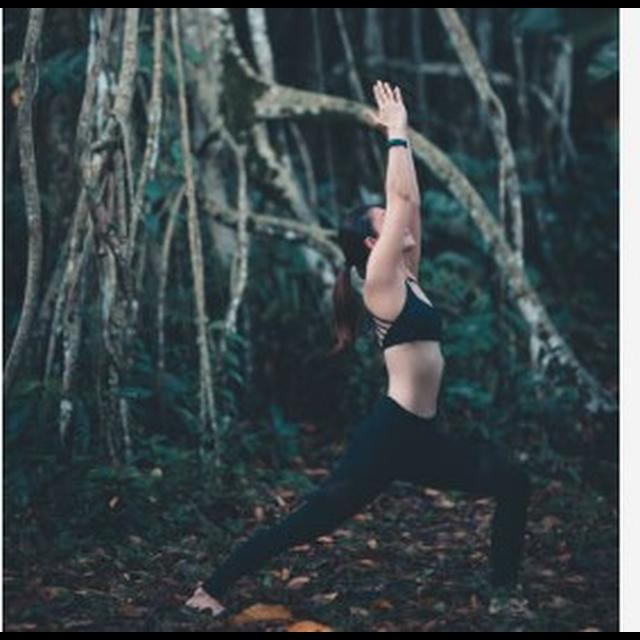Warrior_I: (170, 74, 562, 621)
